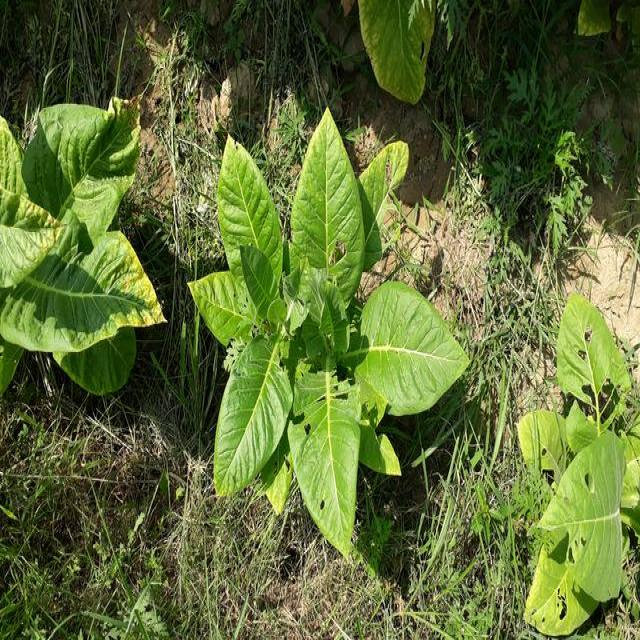crop: (204, 128, 468, 550), (0, 103, 165, 393), (507, 299, 640, 635), (354, 0, 462, 107)
